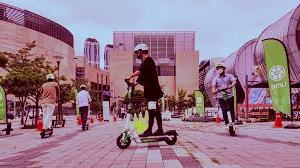helmet: (114, 43, 180, 151), (210, 62, 241, 136), (36, 73, 62, 139), (76, 82, 93, 132)
